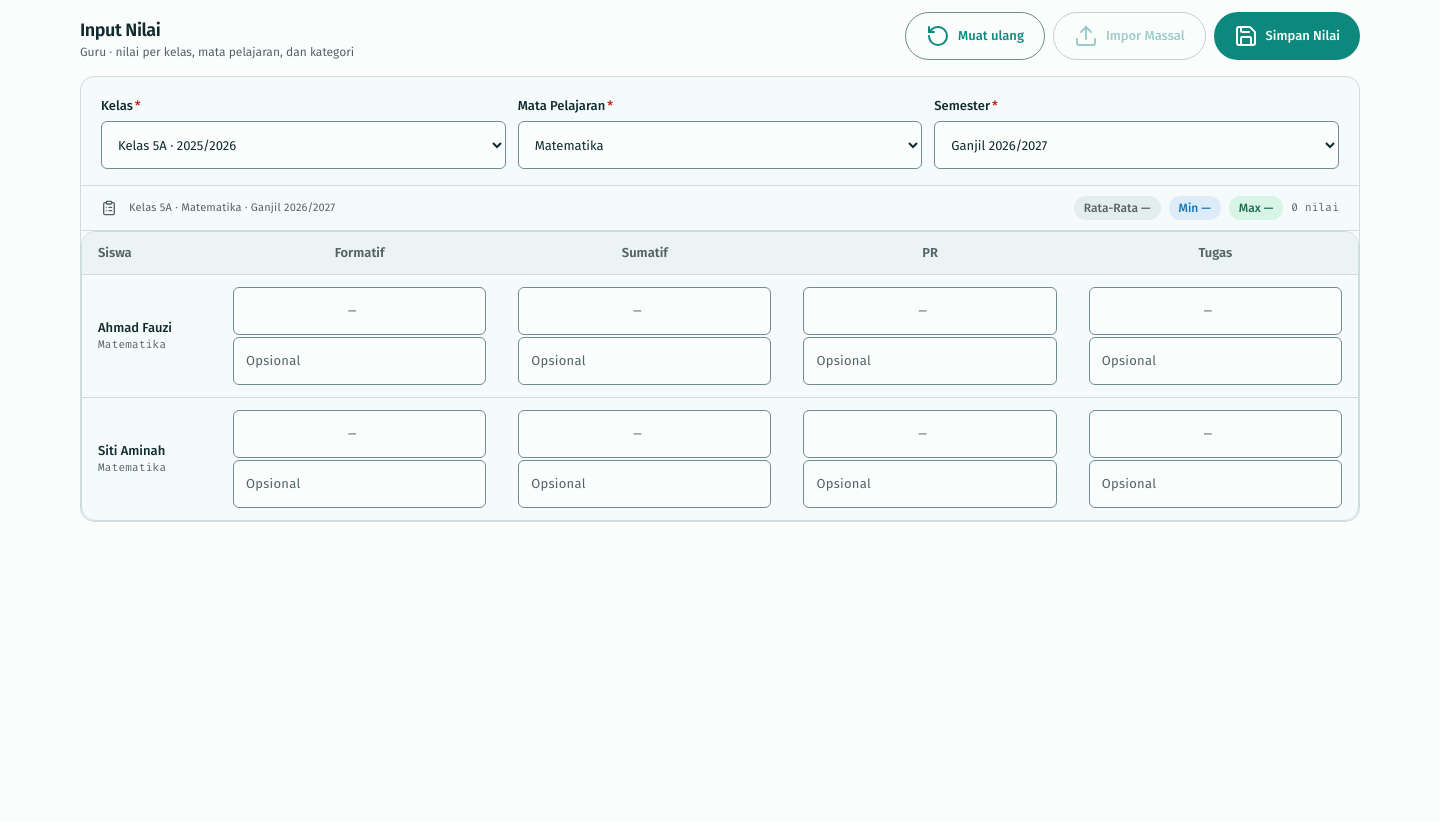
it: GradesPage › shows a 422 inline on the failing row and success on the rest
Expected: the text "Ahmad Fauzi" is shown, [98,320,172,335]
In the number field named "Formatif Ahmad Fauzi": (360, 311) [233,287,486,335], type "80"
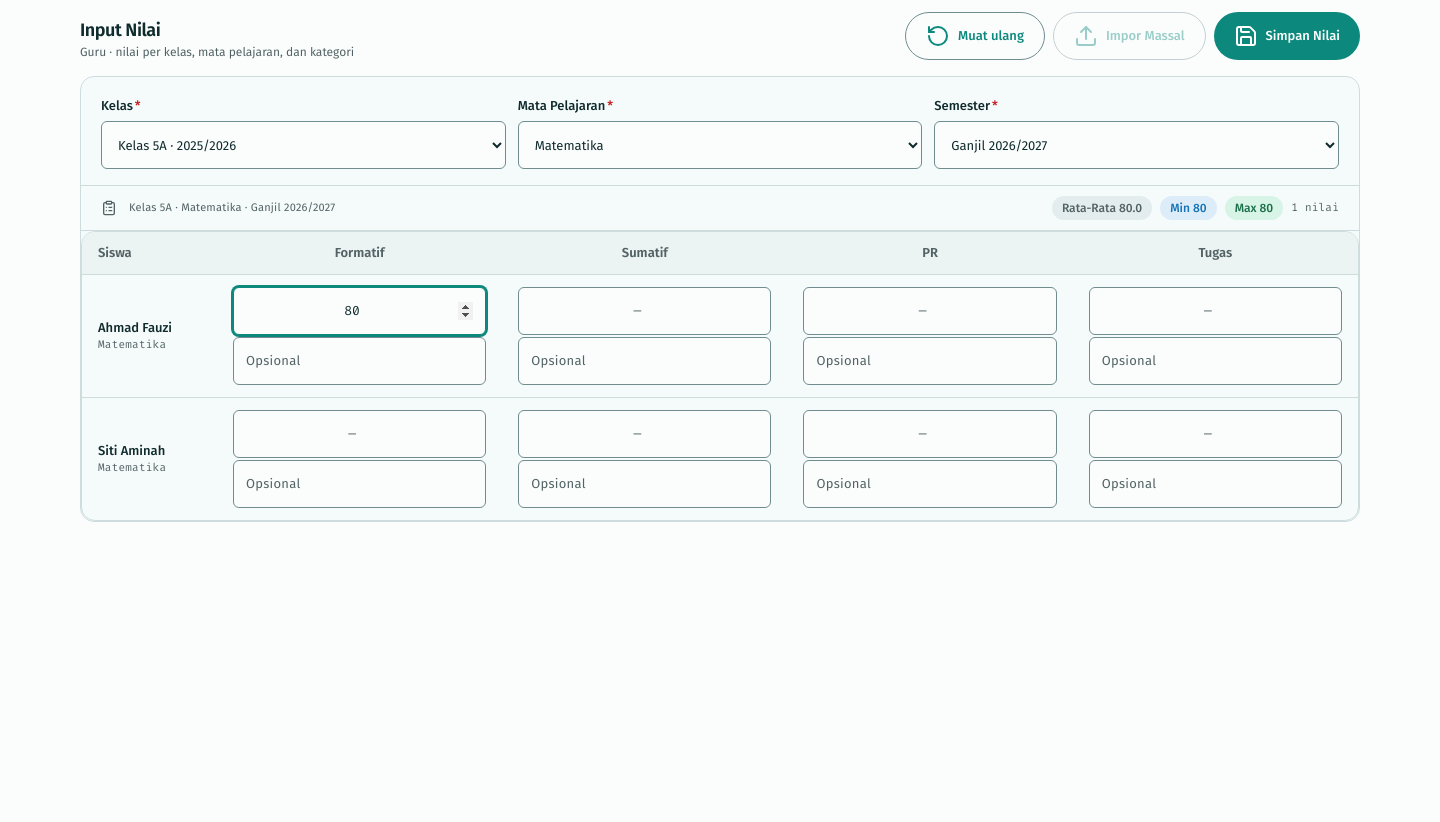
In the number field named "Sumatif Siti Aminah": (645, 434) [518,410,772,458], type "85"
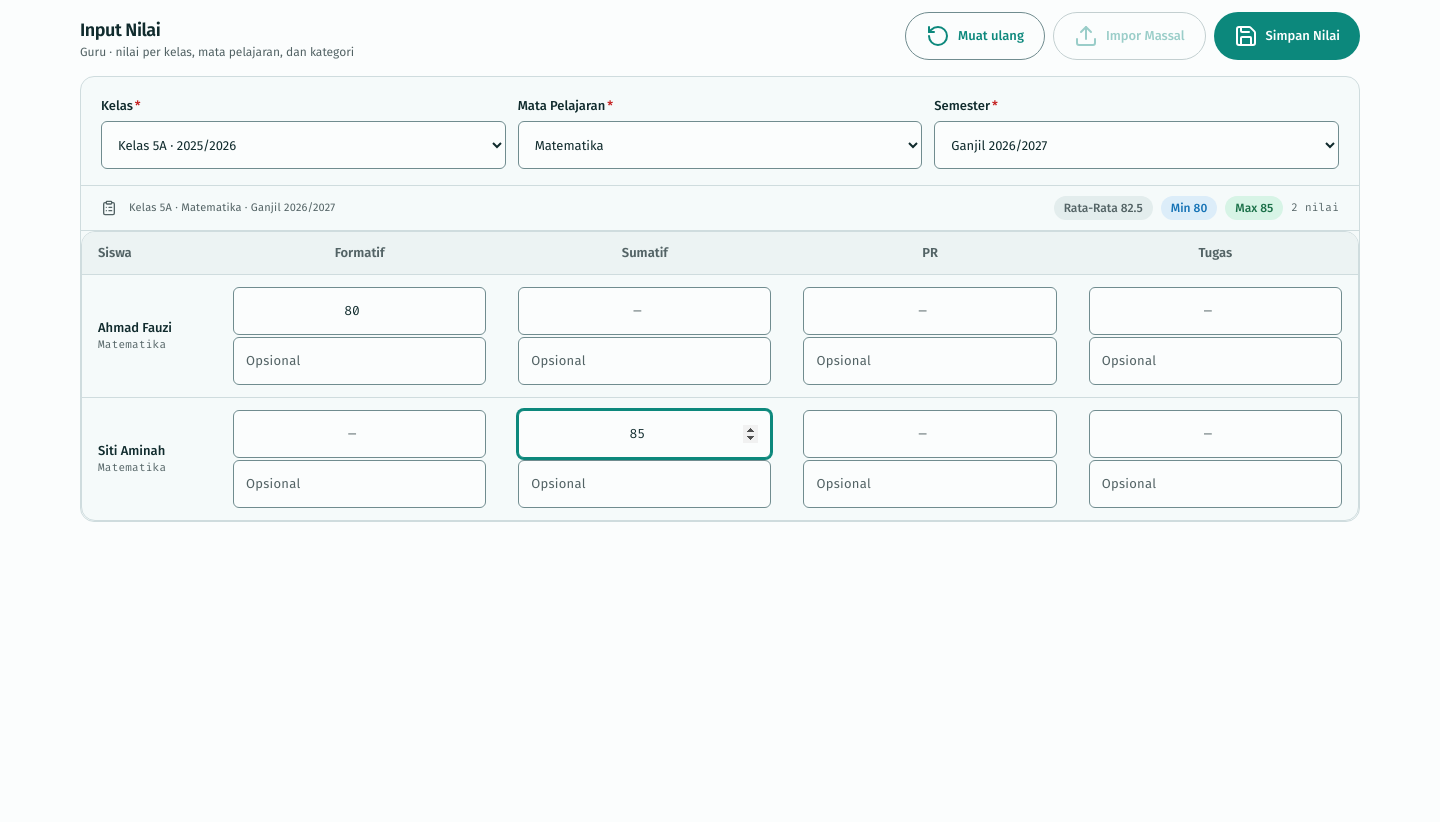
Click the button "Simpan Nilai": (1287, 36) [1214,12,1360,60]
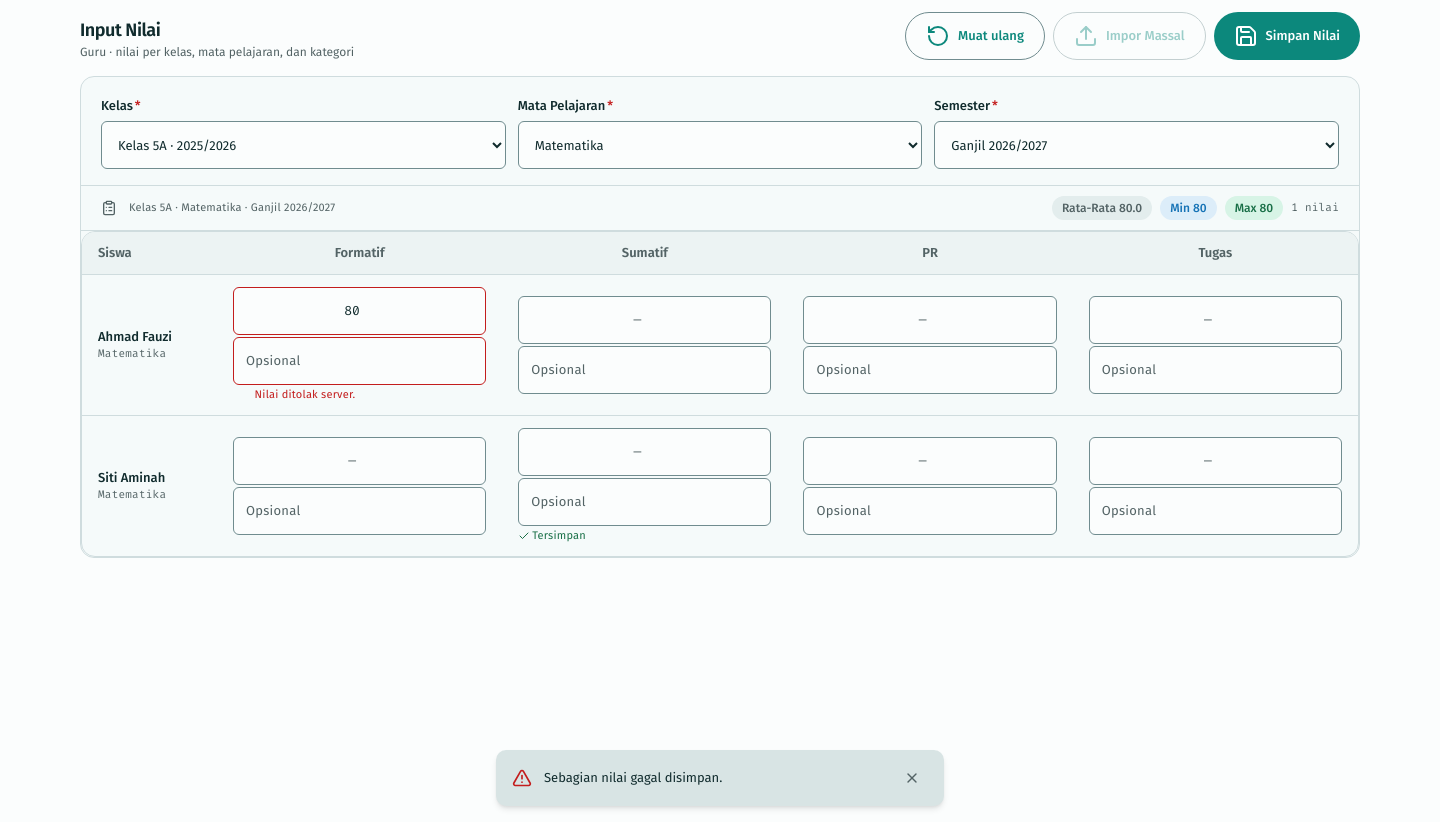
Now the text "Nilai ditolak server." is shown, box [255,388,355,401]
Now the text "Tersimpan" is shown, box [518,529,586,542]
